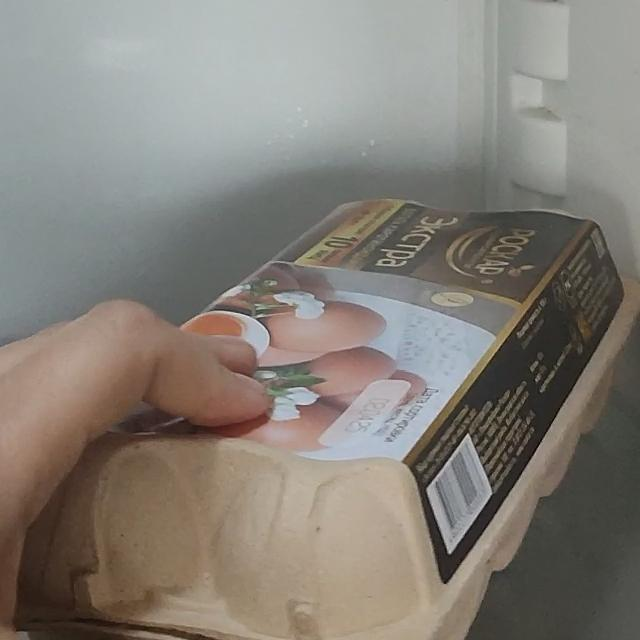egg: (20, 173, 640, 640)
